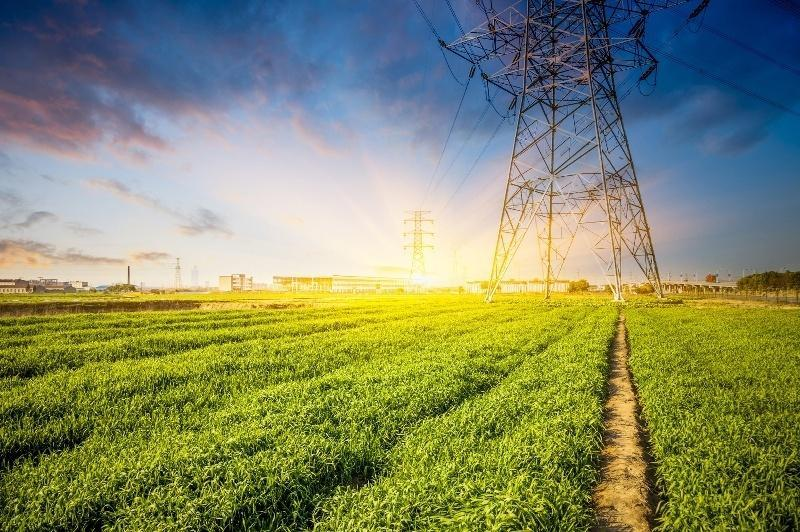power_tower: (436, 0, 714, 299), (400, 208, 437, 298), (171, 256, 185, 286)
